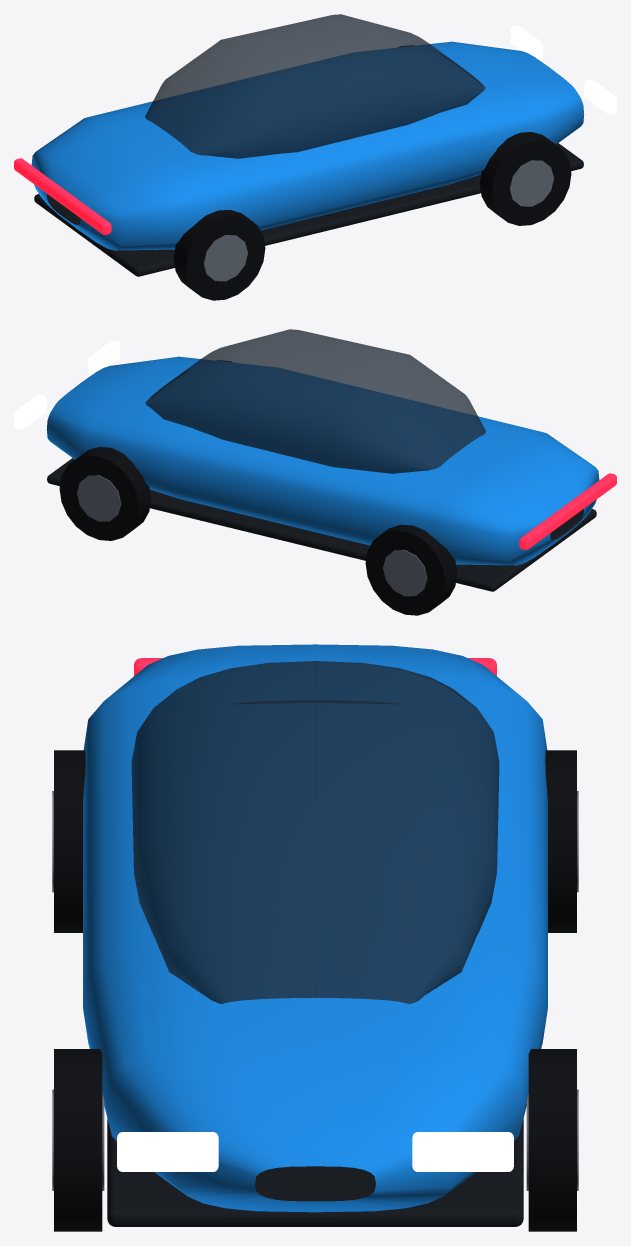
The model's file is generic-ego-sedan.glb.
The picture shows the model from 3 angles, top to bottom: view 1: azimuth 30°, elevation 25°; view 2: azimuth 150°, elevation 25°; view 3: azimuth 270°, elevation 25°; orthographic projection. The views are drawn at different scales.
Visible parts, largest first — view 1: body_shell, glass_canopy, lower_trim, wheel_front_right, wheel_rear_right, tail_light_bar, wheel_front_right_rim, wheel_rear_right_rim, head_light_right, head_light_left; view 2: body_shell, glass_canopy, lower_trim, wheel_front_left, wheel_rear_left, tail_light_bar, wheel_front_left_rim, wheel_rear_left_rim, head_light_left, head_light_right; view 3: body_shell, glass_canopy, lower_trim, wheel_front_right, wheel_front_left, wheel_rear_left, wheel_rear_right, head_light_left, head_light_right.
Part boxes in pixels (x1,y1,x2,y2): body_shell: [31, 41, 584, 250]; glass_canopy: [145, 14, 485, 158]; lower_trim: [34, 143, 583, 276]; wheel_front_right: [479, 132, 571, 225]; wheel_rear_right: [173, 209, 265, 300]; tail_light_bar: [14, 158, 111, 234]; wheel_front_right_rim: [509, 160, 553, 206]; wheel_rear_right_rim: [203, 235, 247, 281]; head_light_right: [584, 79, 616, 114]; head_light_left: [510, 25, 543, 59]; body_shell: [46, 356, 599, 565]; glass_canopy: [145, 329, 485, 473]; lower_trim: [47, 458, 596, 591]; wheel_front_left: [59, 447, 151, 540]; wheel_rear_left: [365, 524, 457, 615]; tail_light_bar: [519, 473, 616, 549]; wheel_front_left_rim: [77, 475, 121, 521]; wheel_rear_left_rim: [383, 550, 427, 596]; head_light_left: [14, 394, 46, 429]; head_light_right: [87, 340, 120, 374]; body_shell: [83, 644, 547, 1212]; glass_canopy: [131, 661, 499, 1004]; lower_trim: [107, 1119, 523, 1226]; wheel_front_right: [54, 1049, 102, 1231]; wheel_front_left: [528, 1049, 576, 1231]; wheel_rear_left: [545, 750, 576, 932]; wheel_rear_right: [54, 750, 85, 932]; head_light_left: [412, 1132, 513, 1171]; head_light_right: [117, 1132, 218, 1171].
Size of the model in its own units: 4.87 by 1.62 by 2.18.
